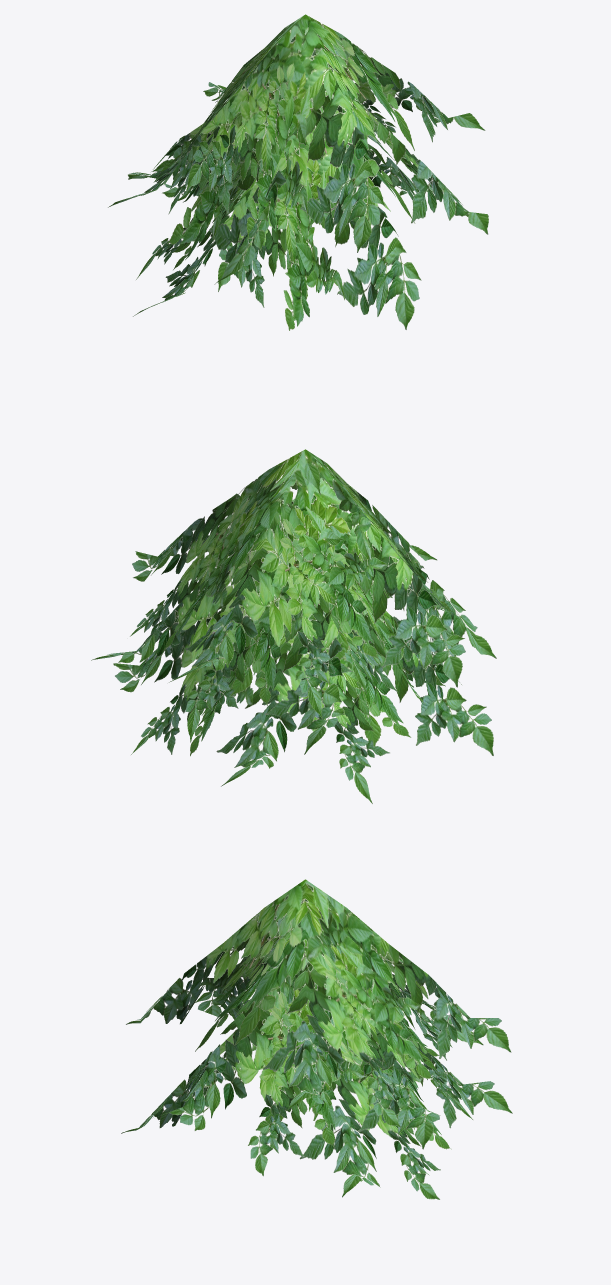
Rendered from leaves pt 2.fbx.
3 views of the same model, one above another, from view 1: azimuth 30°, elevation 25°; view 2: azimuth 150°, elevation 25°; view 3: azimuth 270°, elevation 25° (orthographic). The views are drawn at different scales.
Parts seen in each view (by area): view 1: pPlane1, pPlane3, pPlane2; view 2: pPlane1, pPlane3, pPlane2; view 3: pPlane1, pPlane2, pPlane3.
Part boxes in pixels (box(x1,y1,x2,y2)): pPlane1: box(108, 14, 485, 252); pPlane3: box(133, 135, 452, 330); pPlane2: box(128, 58, 488, 284); pPlane1: box(130, 449, 465, 719); pPlane3: box(113, 598, 493, 803); pPlane2: box(91, 495, 496, 754); pPlane1: box(126, 879, 511, 1127); pPlane2: box(158, 932, 483, 1176); pPlane3: box(121, 1000, 512, 1199).
Size of the model in its own units: 22.17 by 11.87 by 22.17.
